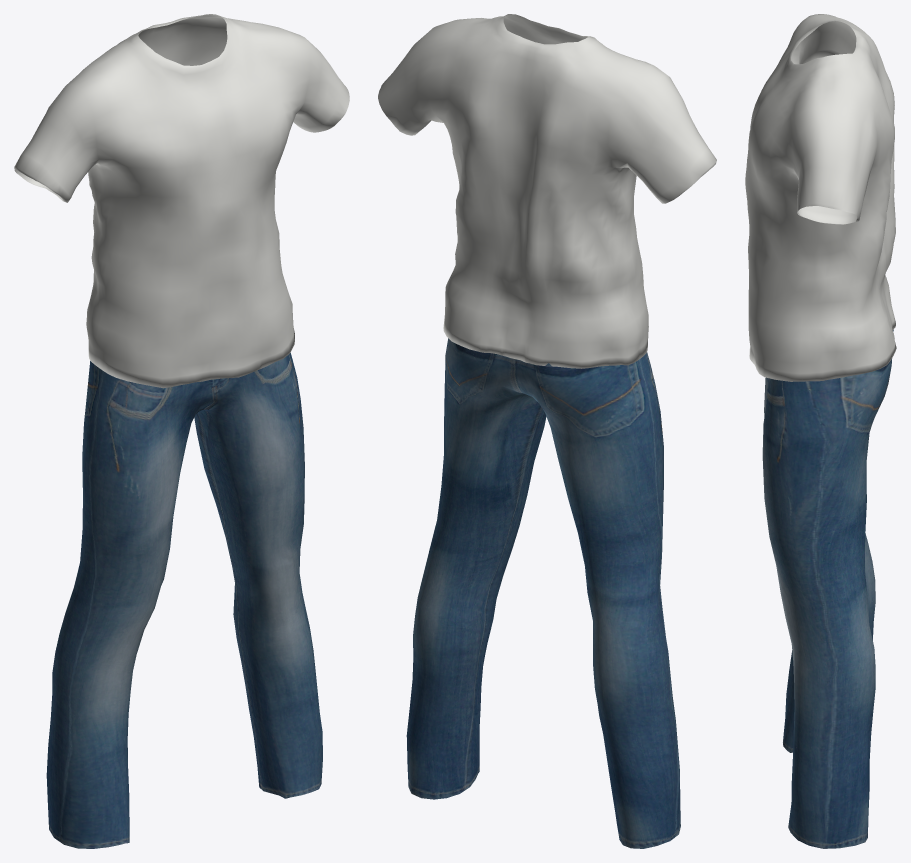
Rendered from male-casual-outfit.glb.
The picture shows the model from 3 angles, left to right: view 1: azimuth 30°, elevation 25°; view 2: azimuth 150°, elevation 25°; view 3: azimuth 270°, elevation 25°; orthographic projection. The views are drawn at different scales.
Parts seen in each view (by area): view 1: shirt, jeans; view 2: jeans, shirt; view 3: shirt, jeans.
Part boxes in pixels (x1,y1,x2,y2): shirt: (14, 14, 349, 388); jeans: (46, 353, 322, 848); jeans: (406, 338, 680, 848); shirt: (378, 14, 716, 368); shirt: (745, 14, 896, 381); jeans: (762, 330, 893, 848).
Size of the model in its own units: 0.99 by 2.27 by 0.4129.
Materials: 2 (1 with a texture image).
